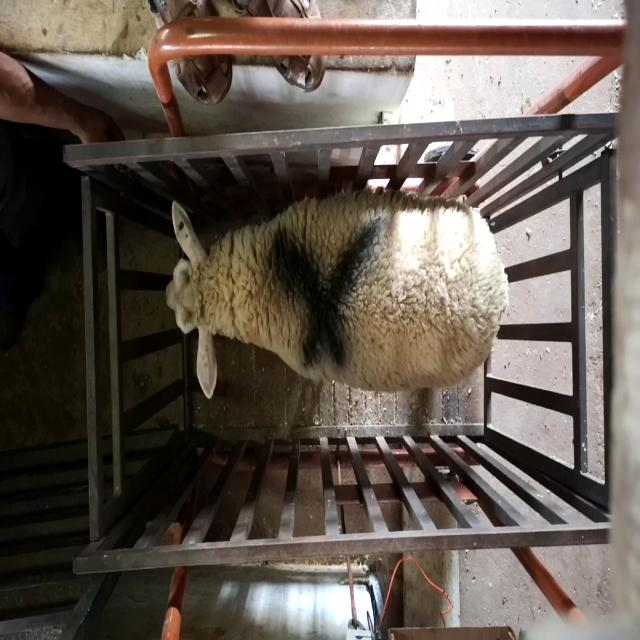sheep: (166, 191, 509, 398)
